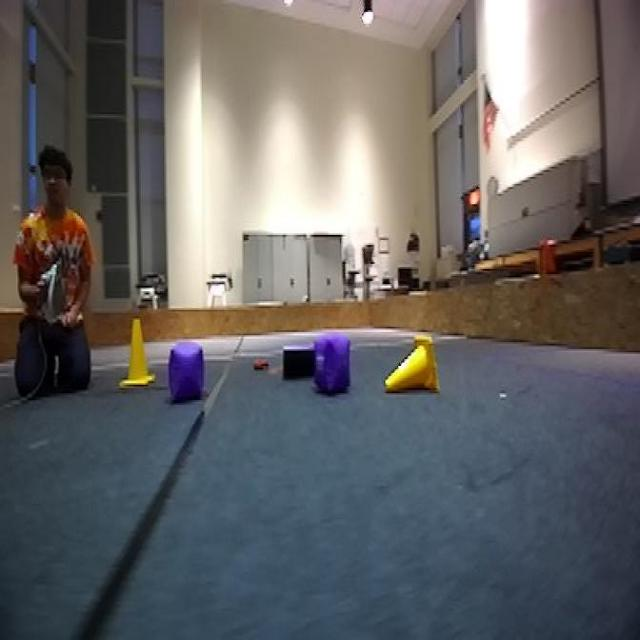frc_cone: (381, 328, 444, 407), (118, 311, 158, 390)
frc_cube: (312, 331, 354, 398), (167, 334, 204, 410)
